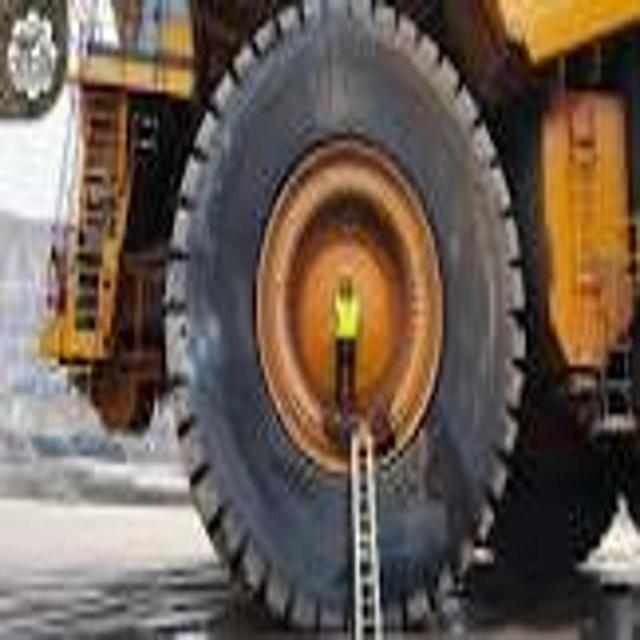dump_truck: (7, 0, 640, 614)
